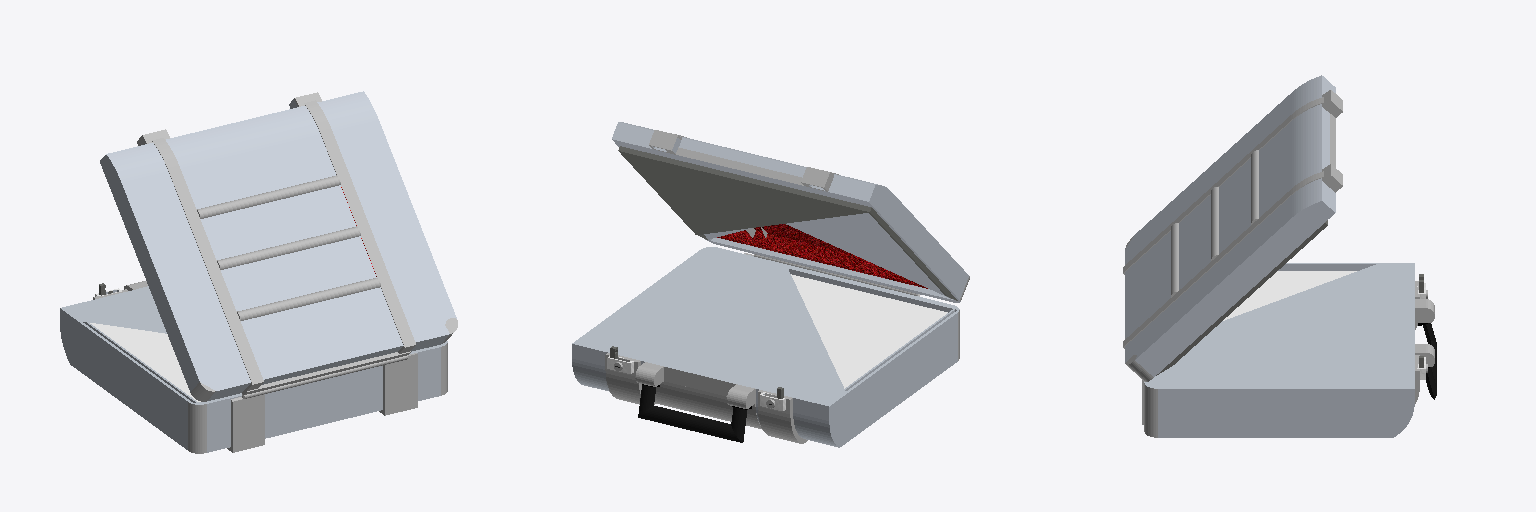
3 views of the same model, side by side, from view 1: azimuth 30°, elevation 25°; view 2: azimuth 150°, elevation 25°; view 3: azimuth 270°, elevation 25° (orthographic).
Parts seen in each view (by area): view 1: Mesh1 money_case1 Model; view 2: Mesh1 money_case1 Model; view 3: Mesh1 money_case1 Model.
Boxes of the visible parts, box(x1,y1,x2,y2) form: Mesh1 money_case1 Model: box(60, 91, 457, 453); Mesh1 money_case1 Model: box(572, 122, 969, 447); Mesh1 money_case1 Model: box(1123, 75, 1436, 437).
Size of the model in its own units: 21.65 by 19.9 by 22.89.
Materials: 9 (2 with a texture image).